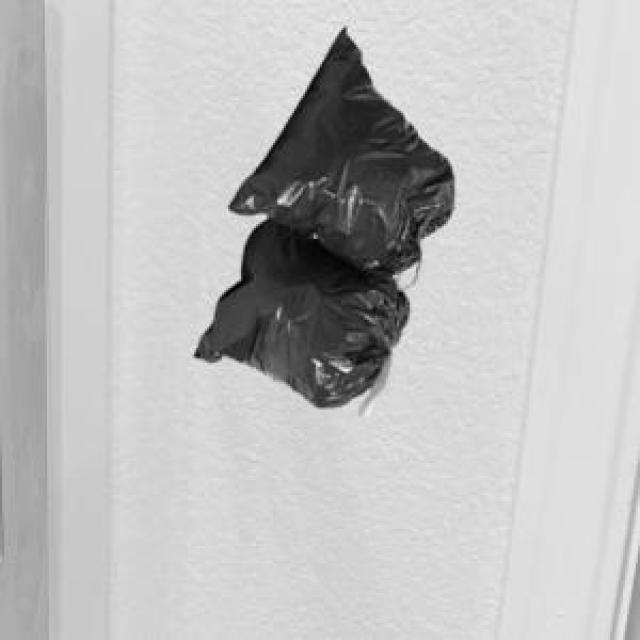miscellaneous trash: (190, 24, 450, 414)
